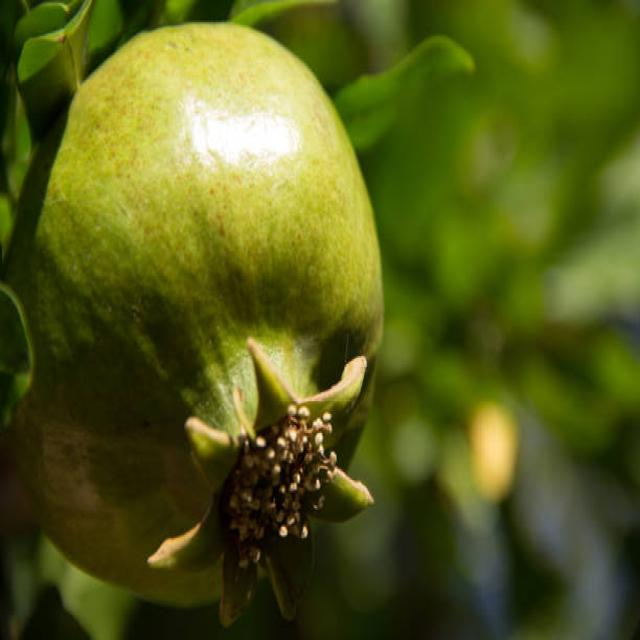Unripe: (6, 17, 385, 638)
